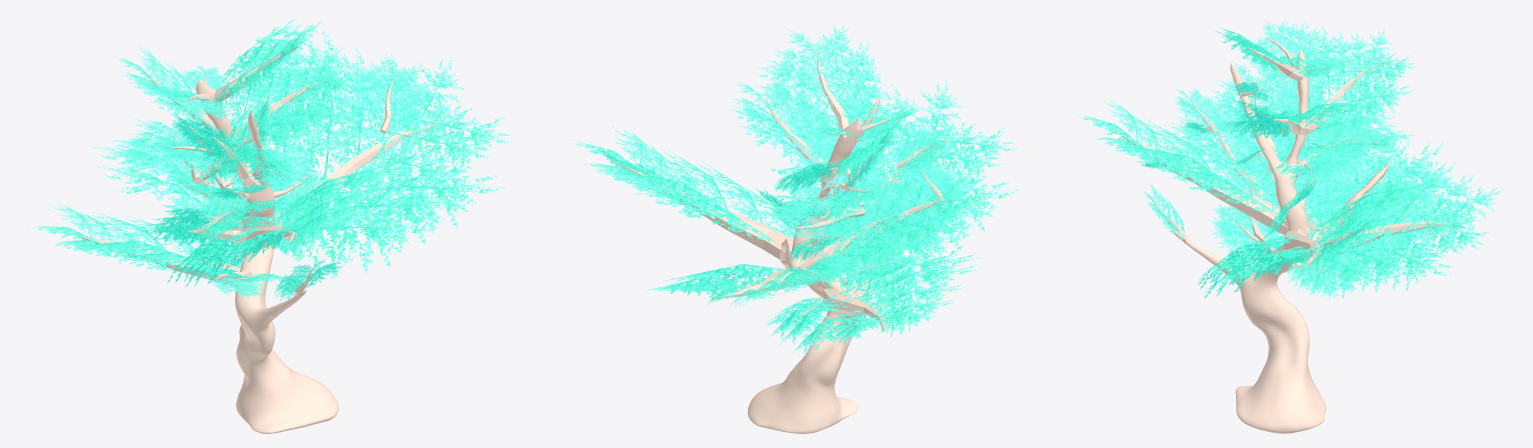
Rendered from springtree.glb.
3 views of the same model, side by side, from view 1: azimuth 30°, elevation 25°; view 2: azimuth 150°, elevation 25°; view 3: azimuth 270°, elevation 25° (orthographic). The views are drawn at different scales.
Visible parts, largest first — view 1: TexturesCom_Branches0038_1_masked_S.007, Cube, TexturesCom_Branches0038_1_masked_S.016, TexturesCom_Branches0038_1_masked_S.028, TexturesCom_Branches0038_1_masked_S.013, TexturesCom_Branches0038_1_masked_S.014, TexturesCom_Branches0038_1_masked_S.011, TexturesCom_Branches0038_1_masked_S.010, TexturesCom_Branches0038_1_masked_S.018, TexturesCom_Branches0038_1_masked_S.005, TexturesCom_Branches0038_1_masked_S.026, TexturesCom_Branches0038_1_masked_S.034 (+16 smaller); view 2: TexturesCom_Branches0038_1_masked_S.028, Cube, TexturesCom_Branches0038_1_masked_S.013, TexturesCom_Branches0038_1_masked_S.007, TexturesCom_Branches0038_1_masked_S.010, TexturesCom_Branches0038_1_masked_S.019, TexturesCom_Branches0038_1_masked_S.014, TexturesCom_Branches0038_1_masked_S.004, TexturesCom_Branches0038_1_masked_S.016, TexturesCom_Branches0038_1_masked_S.026, TexturesCom_Branches0038_1_masked_S.002, TexturesCom_Branches0038_1_masked_S.005 (+14 smaller); view 3: Cube, TexturesCom_Branches0038_1_masked_S.014, TexturesCom_Branches0038_1_masked_S.005, TexturesCom_Branches0038_1_masked_S.007, TexturesCom_Branches0038_1_masked_S.028, TexturesCom_Branches0038_1_masked_S.018, TexturesCom_Branches0038_1_masked_S.032, TexturesCom_Branches0038_1_masked_S.019, TexturesCom_Branches0038_1_masked_S.013, TexturesCom_Branches0038_1_masked_S.021, TexturesCom_Branches0038_1_masked_S.030, TexturesCom_Branches0038_1_masked_S.016 (+15 smaller).
Part boxes in pixels (left/top/right/bottom): TexturesCom_Branches0038_1_masked_S.007: left=231, top=30, right=512, bottom=278; Cube: left=196, top=79, right=338, bottom=433; TexturesCom_Branches0038_1_masked_S.016: left=227, top=34, right=350, bottom=161; TexturesCom_Branches0038_1_masked_S.028: left=167, top=153, right=410, bottom=287; TexturesCom_Branches0038_1_masked_S.013: left=28, top=204, right=240, bottom=286; TexturesCom_Branches0038_1_masked_S.014: left=90, top=118, right=307, bottom=254; TexturesCom_Branches0038_1_masked_S.011: left=342, top=54, right=430, bottom=133; TexturesCom_Branches0038_1_masked_S.010: left=213, top=17, right=320, bottom=114; TexturesCom_Branches0038_1_masked_S.018: left=180, top=117, right=299, bottom=190; TexturesCom_Branches0038_1_masked_S.005: left=114, top=47, right=220, bottom=136; TexturesCom_Branches0038_1_masked_S.026: left=110, top=116, right=218, bottom=184; TexturesCom_Branches0038_1_masked_S.034: left=267, top=146, right=332, bottom=227; TexturesCom_Branches0038_1_masked_S.028: left=763, top=72, right=1019, bottom=292; Cube: left=747, top=97, right=879, bottom=433; TexturesCom_Branches0038_1_masked_S.013: left=769, top=245, right=979, bottom=355; TexturesCom_Branches0038_1_masked_S.007: left=566, top=126, right=794, bottom=259; TexturesCom_Branches0038_1_masked_S.010: left=754, top=24, right=887, bottom=131; TexturesCom_Branches0038_1_masked_S.019: left=855, top=152, right=974, bottom=262; TexturesCom_Branches0038_1_masked_S.014: left=645, top=262, right=870, bottom=309; TexturesCom_Branches0038_1_masked_S.004: left=801, top=182, right=918, bottom=290; TexturesCom_Branches0038_1_masked_S.016: left=729, top=76, right=837, bottom=167; TexturesCom_Branches0038_1_masked_S.026: left=766, top=197, right=882, bottom=244; TexturesCom_Branches0038_1_masked_S.002: left=794, top=120, right=889, bottom=206; TexturesCom_Branches0038_1_masked_S.005: left=776, top=140, right=901, bottom=193; Cube: left=1172, top=49, right=1389, bottom=433; TexturesCom_Branches0038_1_masked_S.014: left=1293, top=139, right=1503, bottom=298; TexturesCom_Branches0038_1_masked_S.005: left=1280, top=26, right=1415, bottom=148; TexturesCom_Branches0038_1_masked_S.007: left=1198, top=171, right=1451, bottom=298; TexturesCom_Branches0038_1_masked_S.028: left=1073, top=97, right=1287, bottom=235; TexturesCom_Branches0038_1_masked_S.018: left=1198, top=61, right=1312, bottom=172; TexturesCom_Branches0038_1_masked_S.032: left=1273, top=113, right=1384, bottom=193; TexturesCom_Branches0038_1_masked_S.019: left=1164, top=103, right=1280, bottom=200; TexturesCom_Branches0038_1_masked_S.013: left=1237, top=133, right=1452, bottom=291; TexturesCom_Branches0038_1_masked_S.021: left=1250, top=143, right=1366, bottom=234; TexturesCom_Branches0038_1_masked_S.030: left=1242, top=20, right=1327, bottom=81; TexturesCom_Branches0038_1_masked_S.016: left=1223, top=102, right=1363, bottom=138.
Bounding box in the file's own units: 7.21 × 6.4 × 6.8.
Materials: 2 (1 with a texture image).
